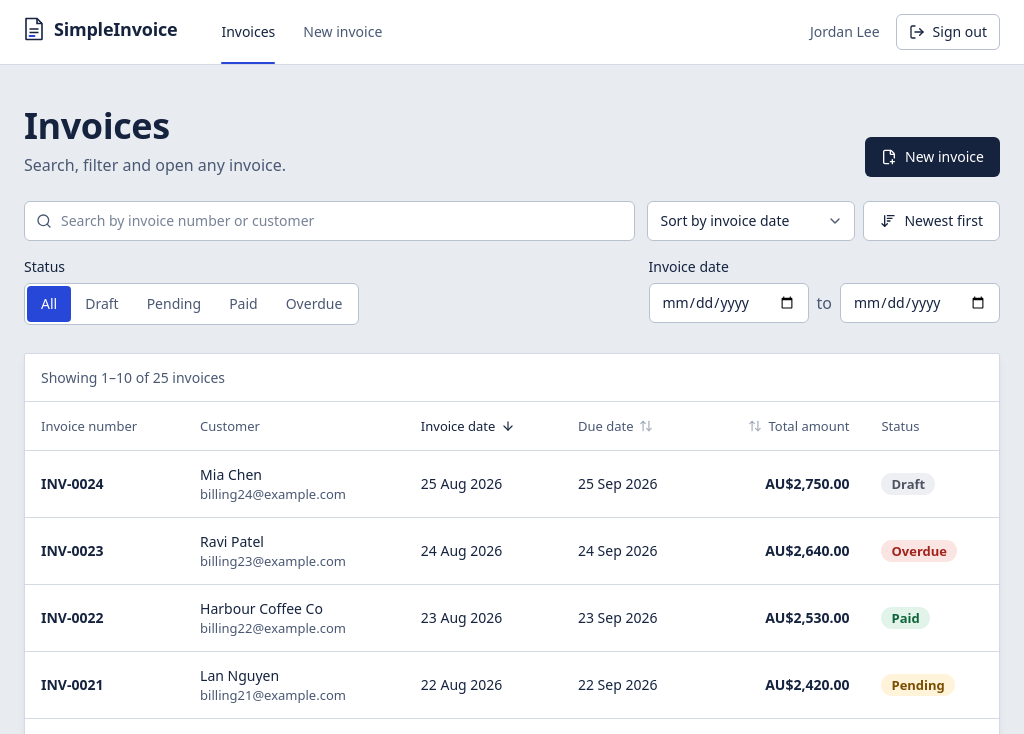
Test case: invoice list › filters by an invoice date range
In the 1st date field named "From": (728, 303) [648,283,808,323], type "2026-08-10"
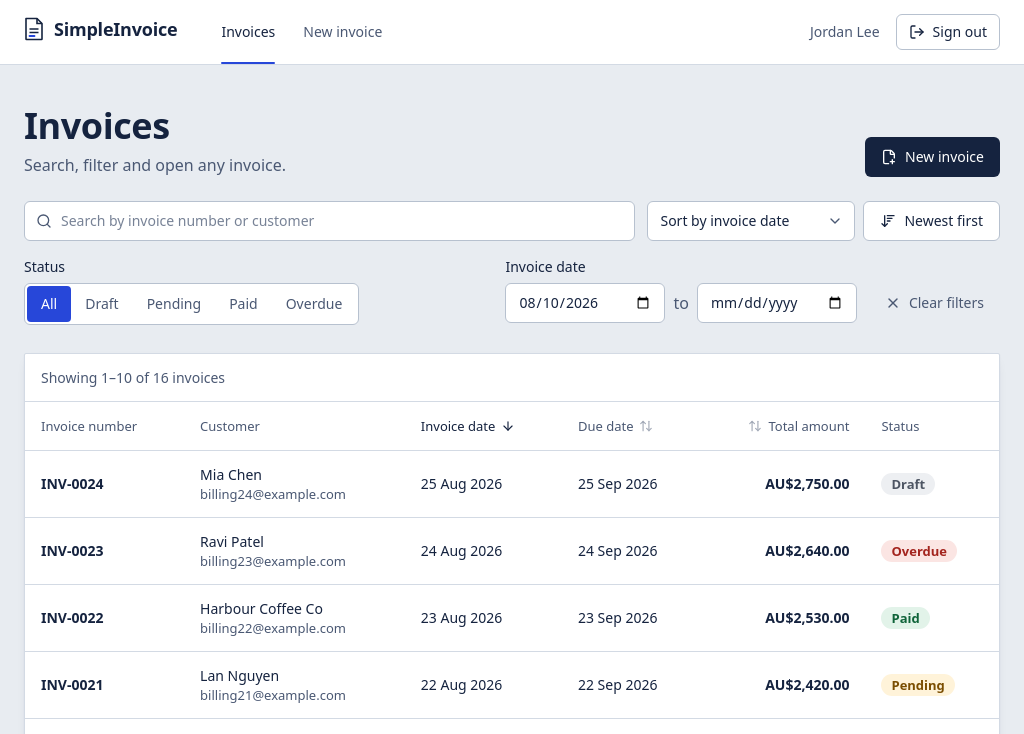
In the 2nd date field named "To": (777, 303) [697,283,857,323], type "2026-08-12"
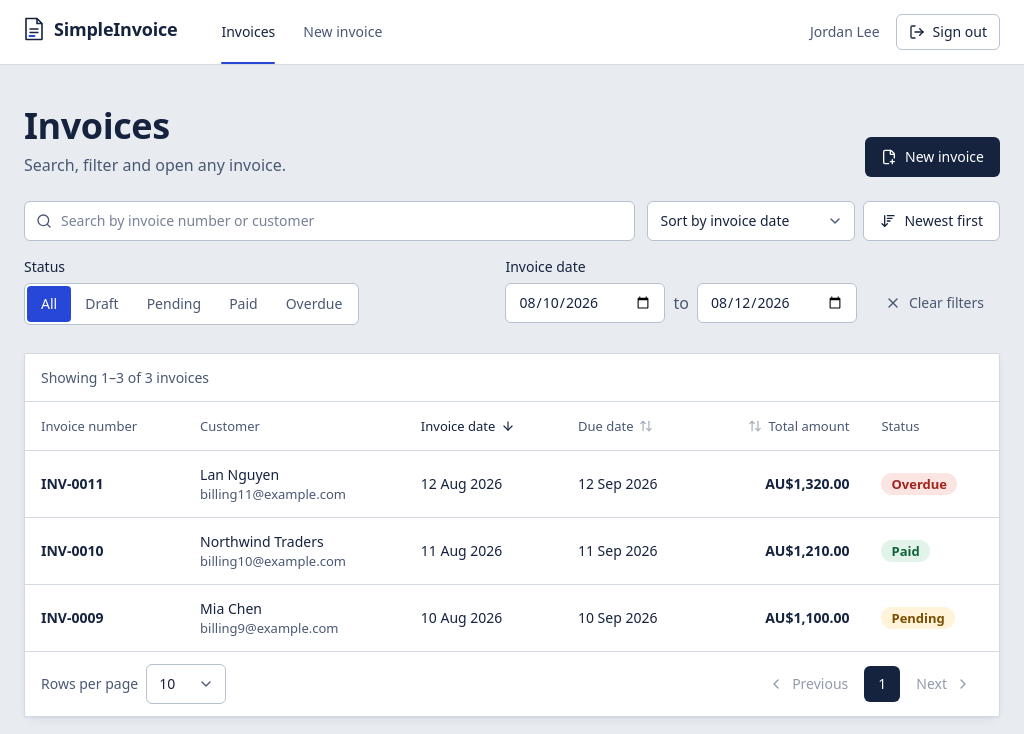
Now the text "Showing 1–3 of 3 invoices" is shown, box [41,368,209,388]
